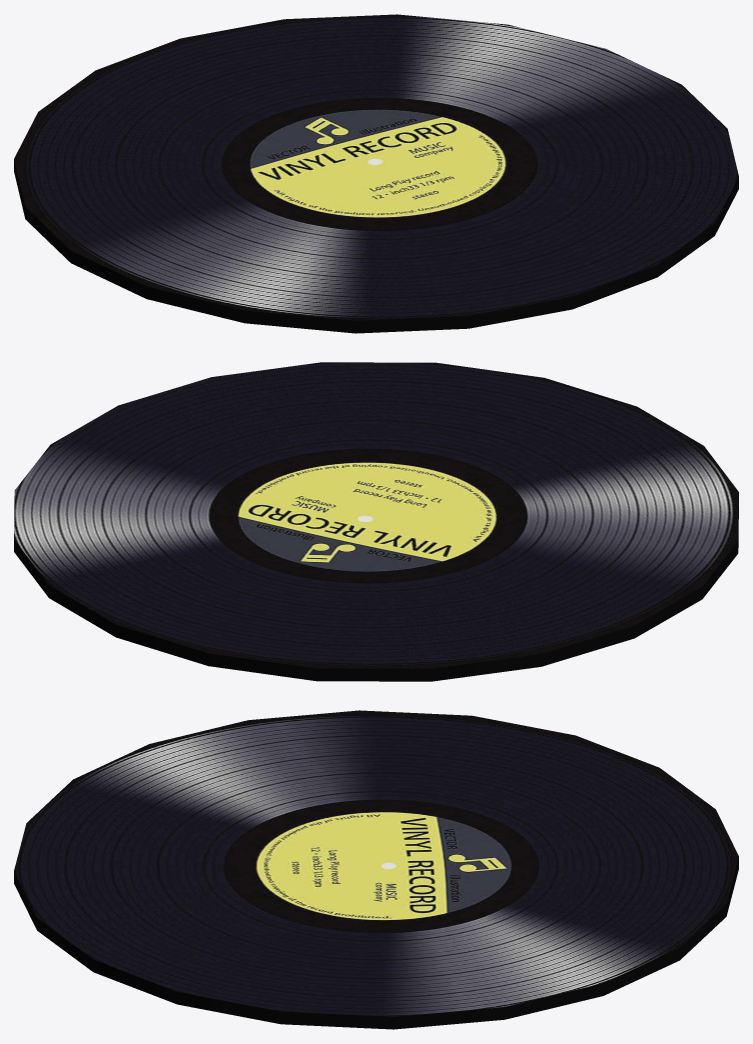
Rendered from Disco.obj.
The picture shows the model from 3 angles, top to bottom: view 1: azimuth 30°, elevation 25°; view 2: azimuth 150°, elevation 25°; view 3: azimuth 270°, elevation 25°; orthographic projection.
Visible parts, largest first — view 1: Gramofono:pCylinder1; view 2: Gramofono:pCylinder1; view 3: Gramofono:pCylinder1.
Boxes of the visible parts, x1,y1,x2,y2 form: Gramofono:pCylinder1: (14, 14, 738, 333); Gramofono:pCylinder1: (14, 362, 738, 681); Gramofono:pCylinder1: (14, 710, 738, 1029).
Size of the model in its own units: 0.7464 by 0.0144 by 0.7464.
Materials: 3 (3 with a texture image).
